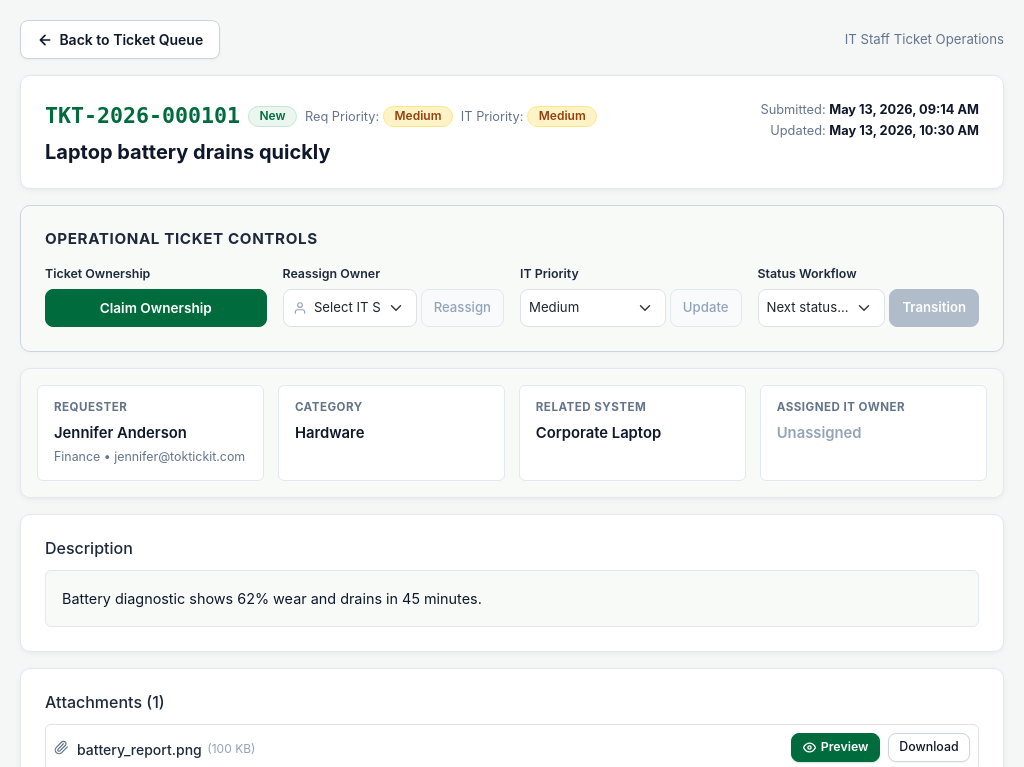
Test: StaffTicketDetail Component (StaffTicketDetail.test.tsx) › UI-06: Ticket Operational Controls › claims ticket ownership when clicking Claim Ownership button
Expected: the text "TKT-2026-000101" is shown, top-left (45, 100), bottom-right (240, 132)
What coordinates should you click on to do the following:
click the button with test id "claim-ticket-btn"
I would click on:
 (156, 308)
Its box is top-left (45, 289), bottom-right (266, 327).
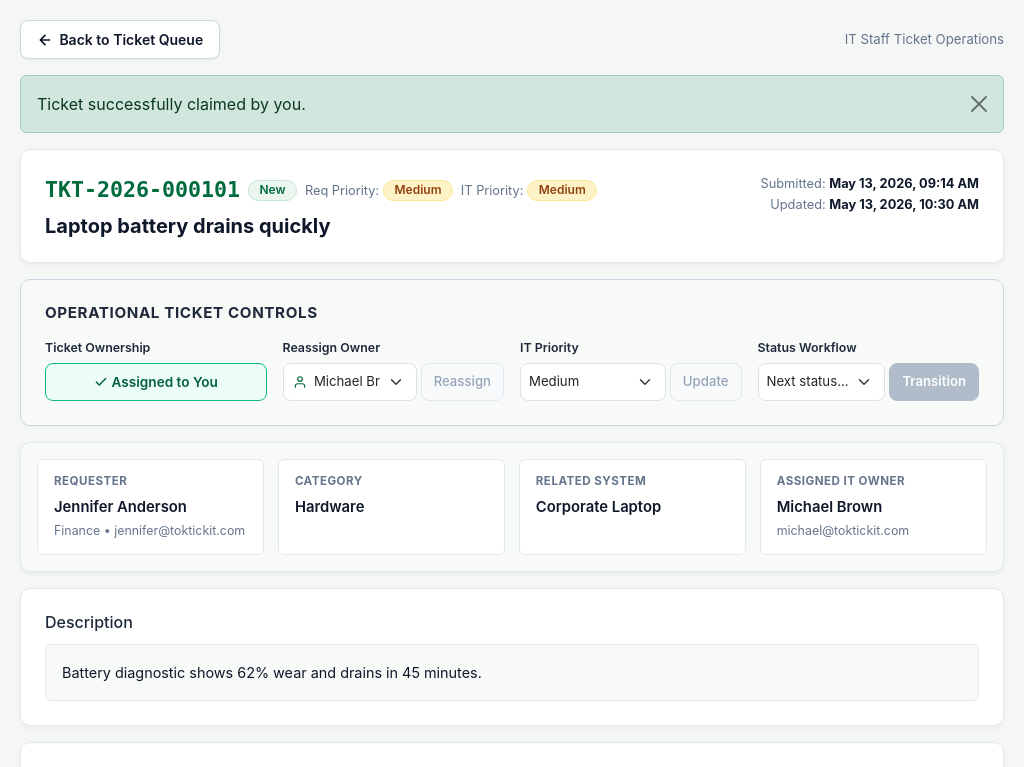
Expected: the message with test id "action-success-alert" reads "Ticket successfully claimed by you.", top-left (37, 94), bottom-right (306, 114)
